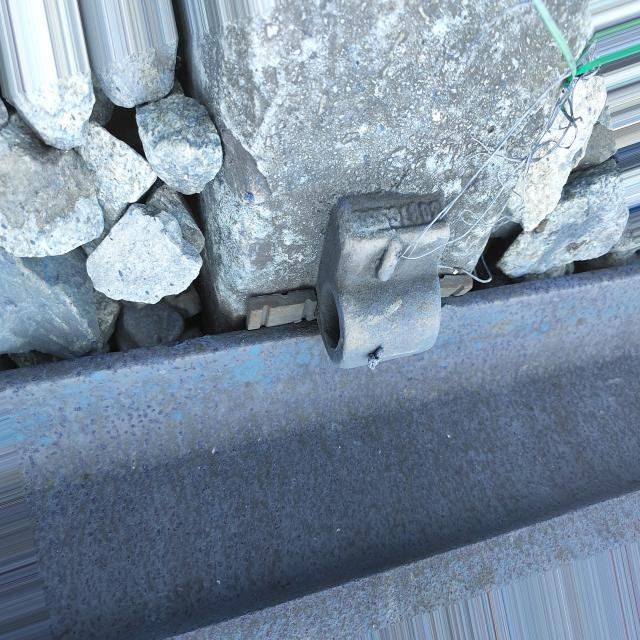Missing Fastener: (236, 149, 511, 448)
